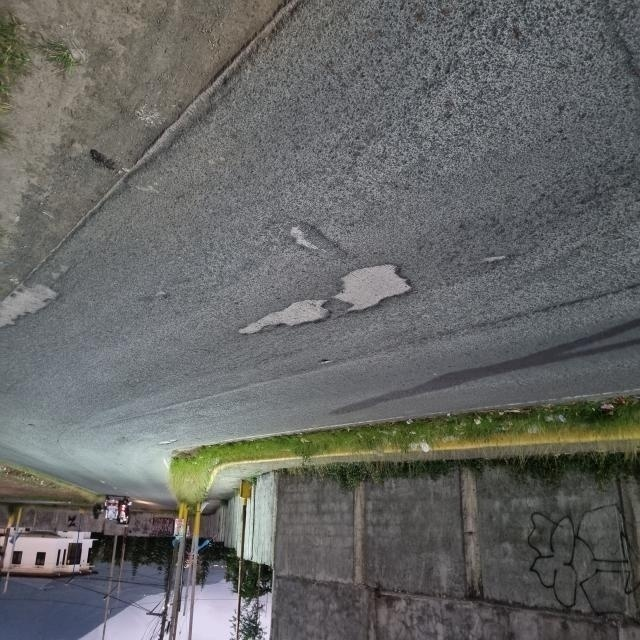pothole: (330, 250, 431, 329), (232, 288, 331, 344), (273, 194, 336, 260), (469, 234, 525, 294)
